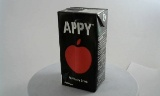appy: (52, 6, 101, 92)
